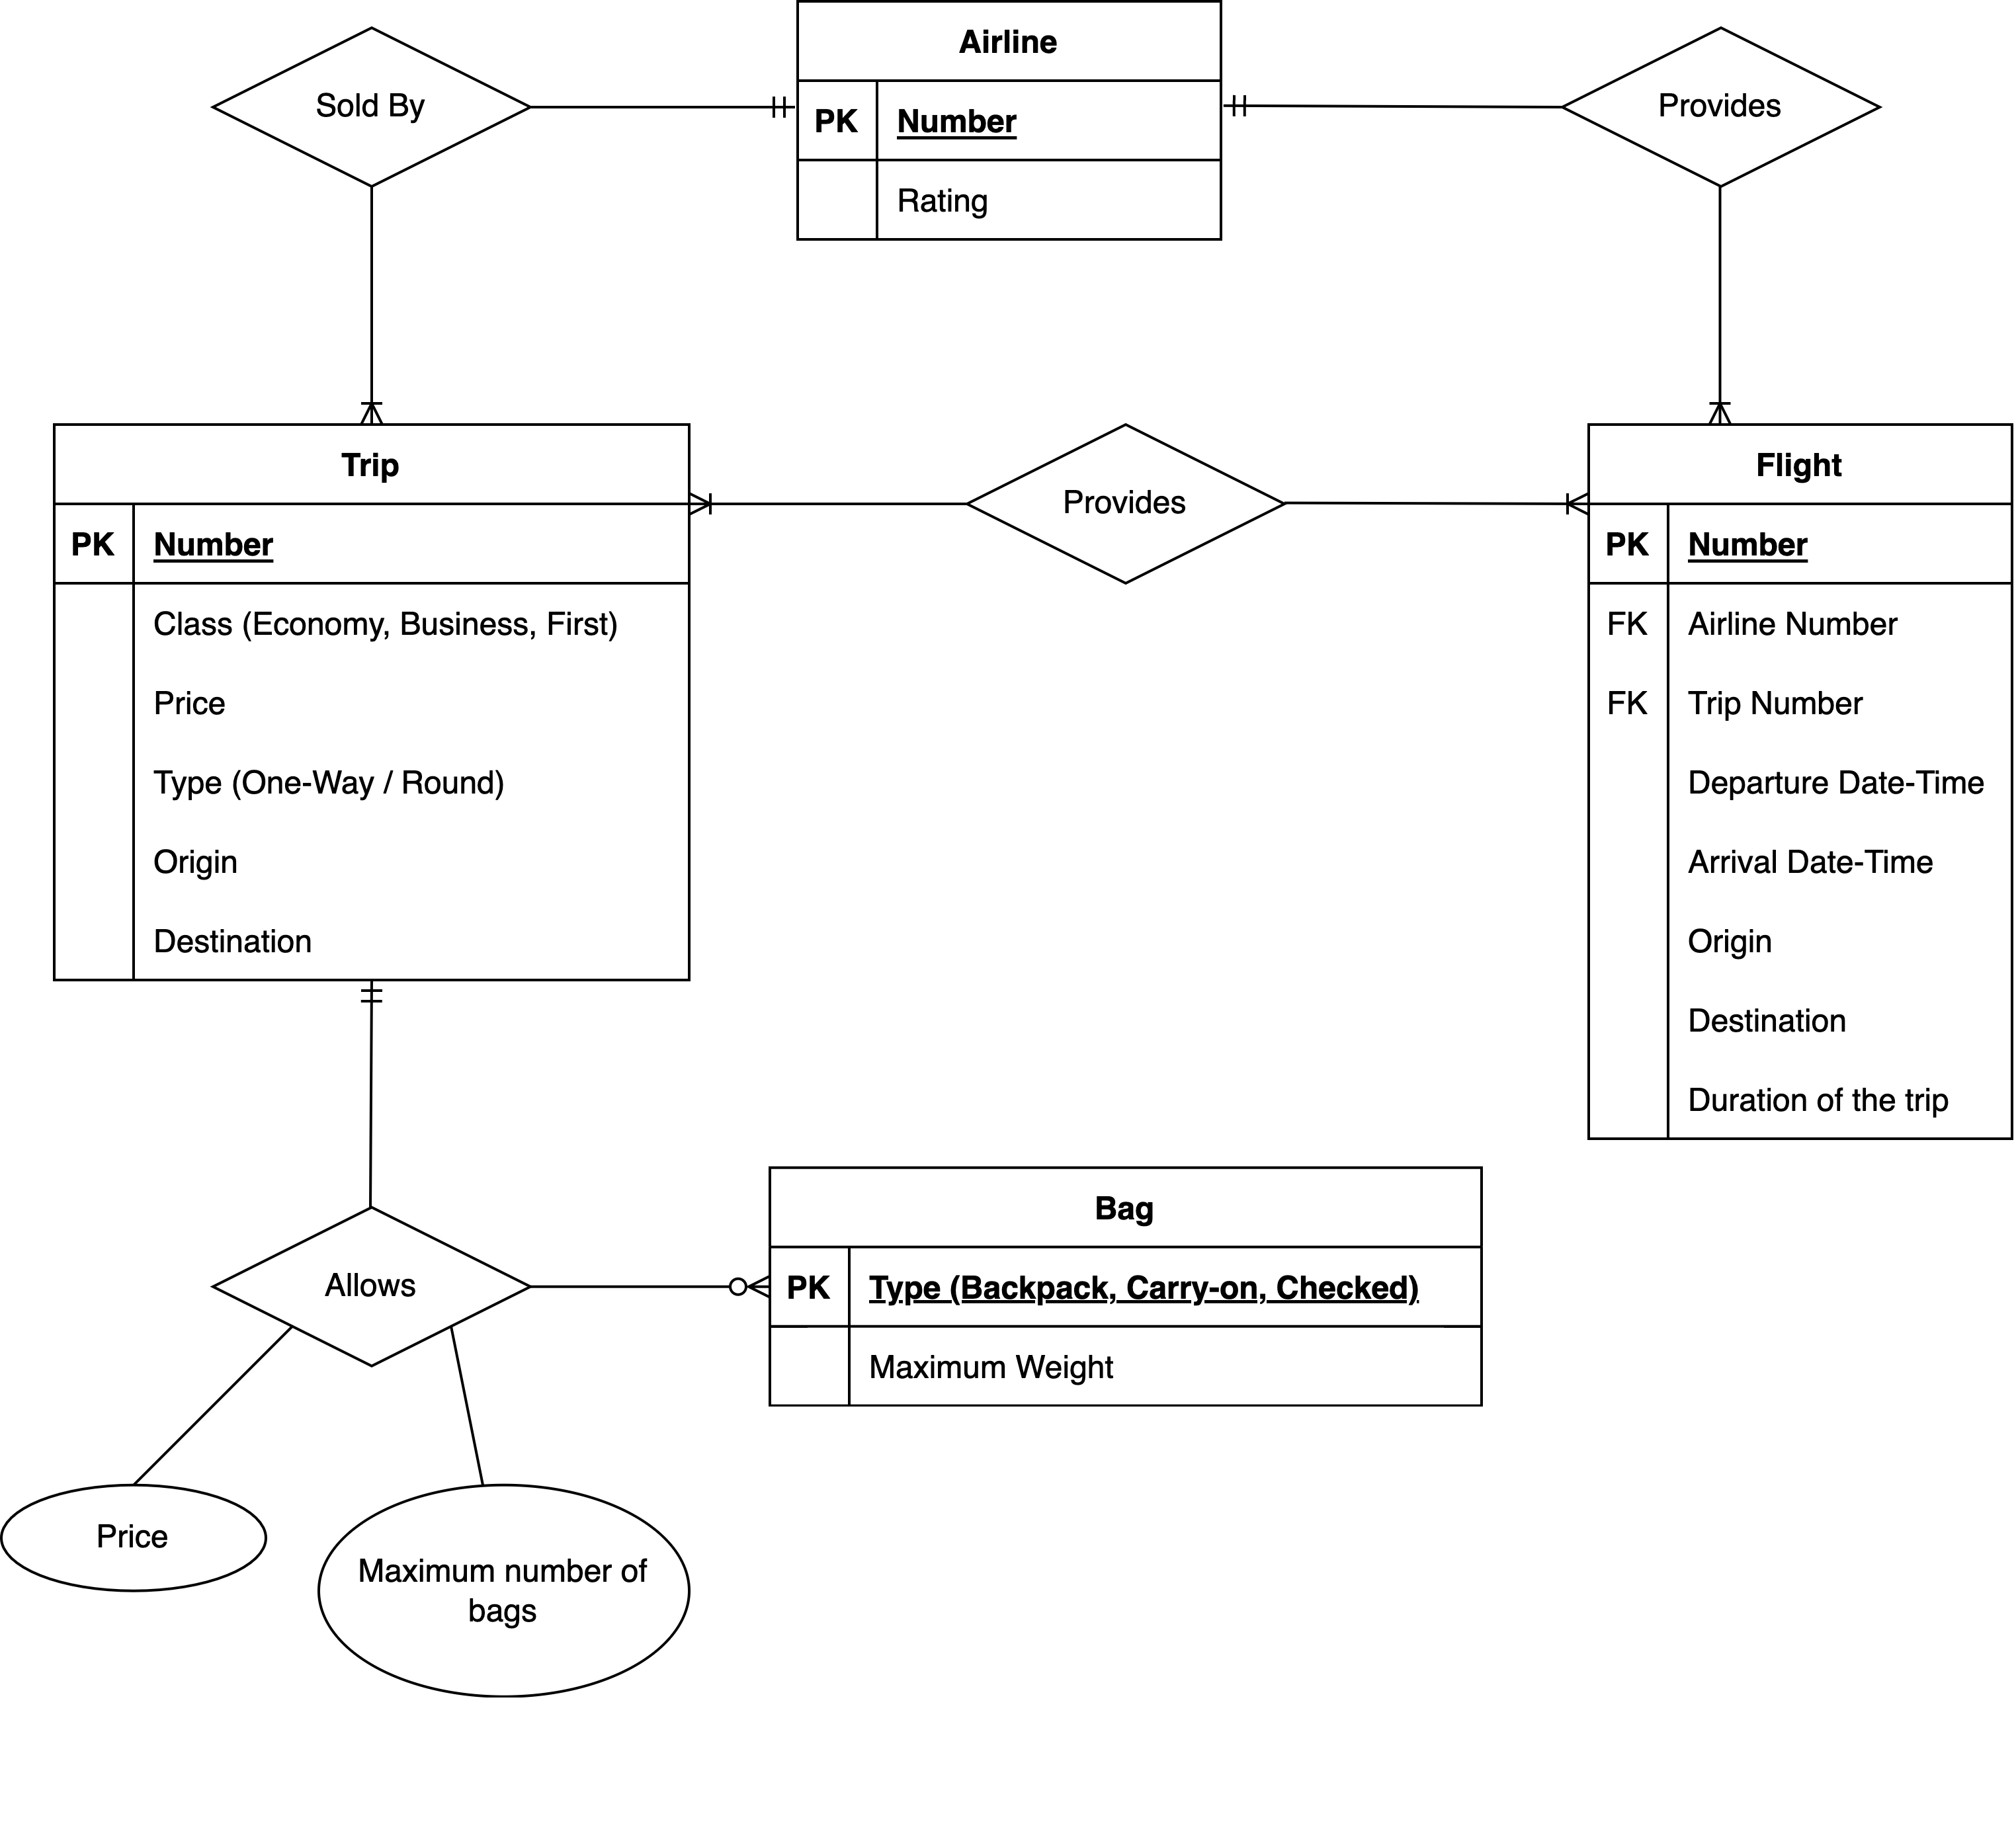entity: (49, 426, 688, 981), (1586, 425, 2011, 1135), (769, 1165, 1480, 1406), (797, 2, 1217, 235)
many: (702, 1258, 771, 1309), (685, 474, 745, 530), (1538, 474, 1593, 530), (1691, 386, 1753, 426), (349, 386, 399, 421)
one: (327, 976, 421, 1025), (1222, 75, 1280, 133), (739, 84, 797, 126)
rel: (211, 28, 536, 188), (1565, 23, 1884, 184), (966, 425, 1284, 586), (212, 1206, 530, 1358)
rel_attr: (316, 1485, 694, 1695), (0, 1479, 270, 1597)
